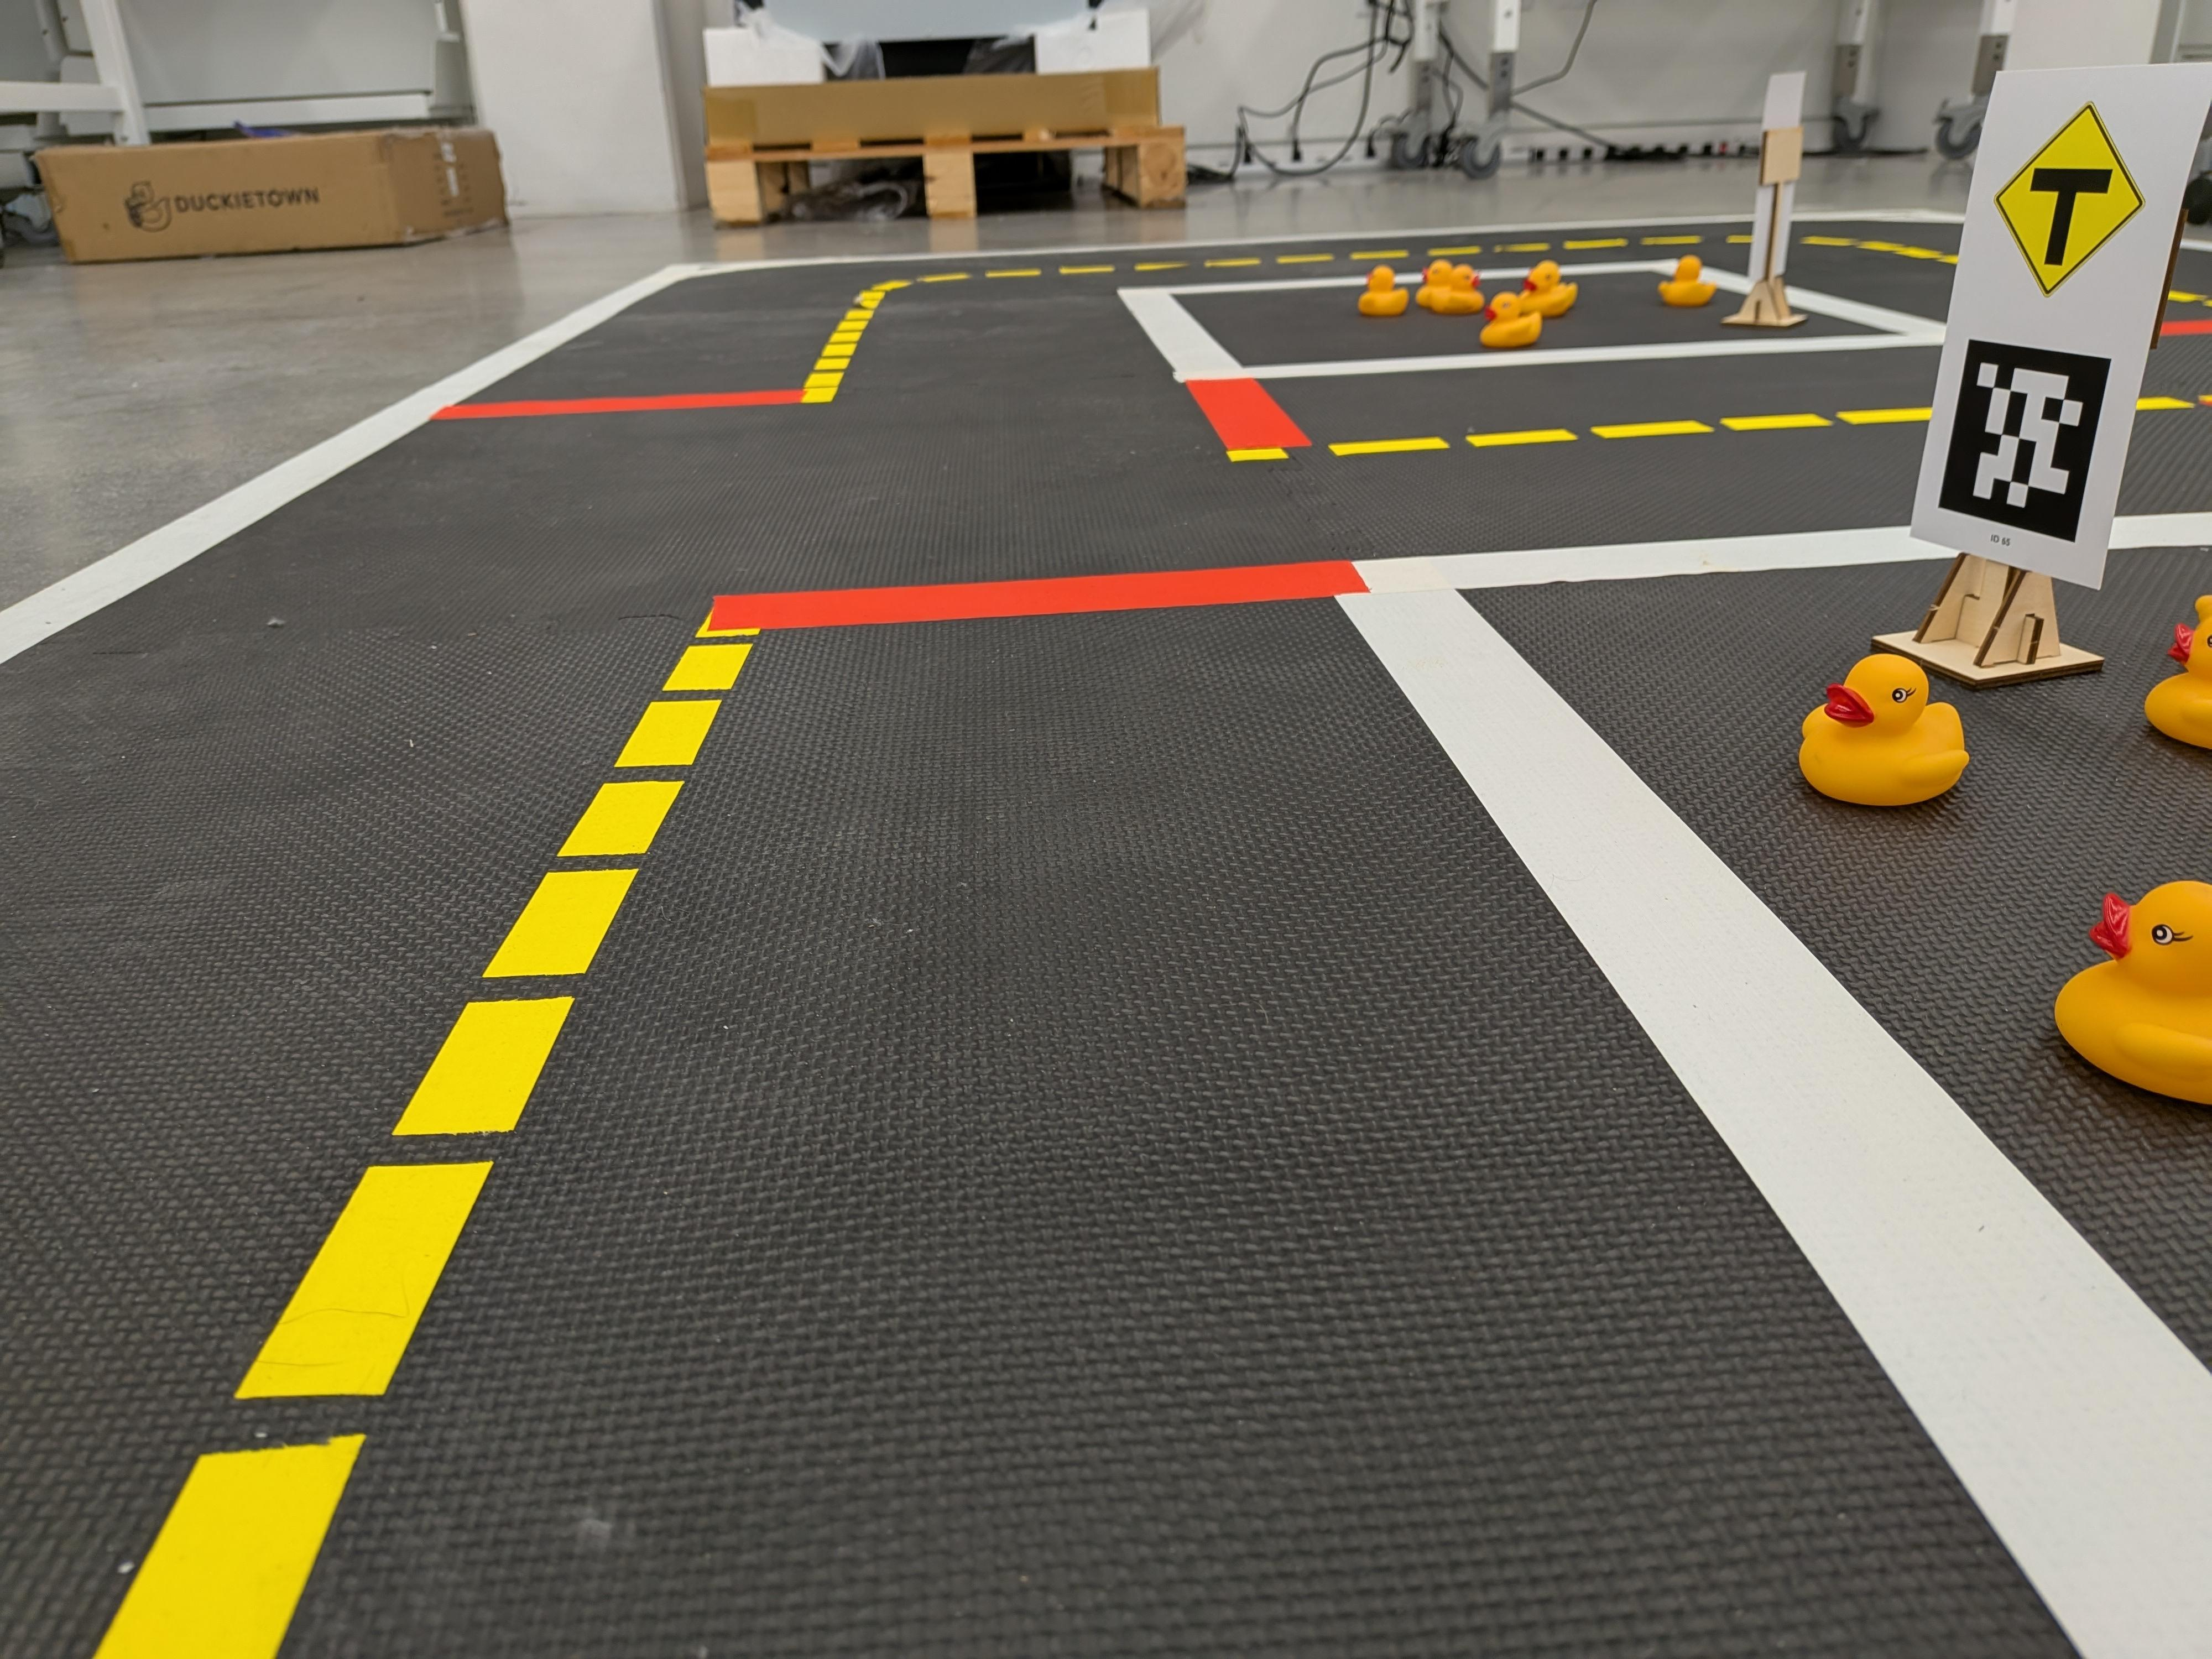peasant: (2052, 875, 2212, 1131), (1797, 636, 1970, 816), (2139, 589, 2212, 770), (1479, 288, 1541, 352), (1512, 260, 1578, 321), (1355, 261, 1411, 324), (1655, 253, 1717, 307), (1437, 261, 1484, 317), (1418, 256, 1463, 314)
whiteline: (1329, 582, 2212, 1659), (0, 261, 683, 667), (662, 204, 1925, 274), (1327, 511, 2212, 596), (1176, 331, 1947, 385), (1705, 260, 1946, 349), (1108, 284, 1251, 376)
yellowline: (92, 626, 765, 1659), (1214, 392, 2212, 467), (867, 232, 1702, 296), (798, 277, 909, 406)
